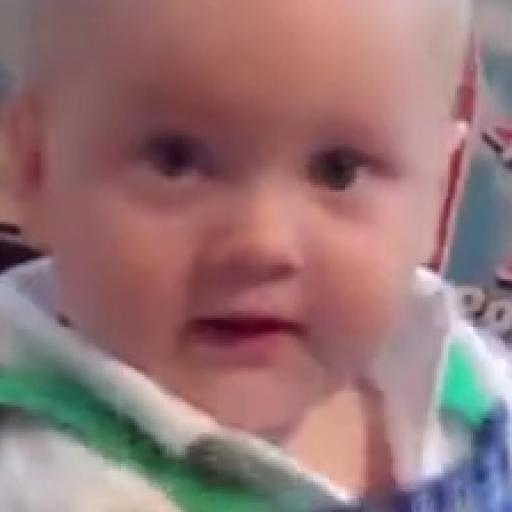Autism: (35, 0, 512, 496)
